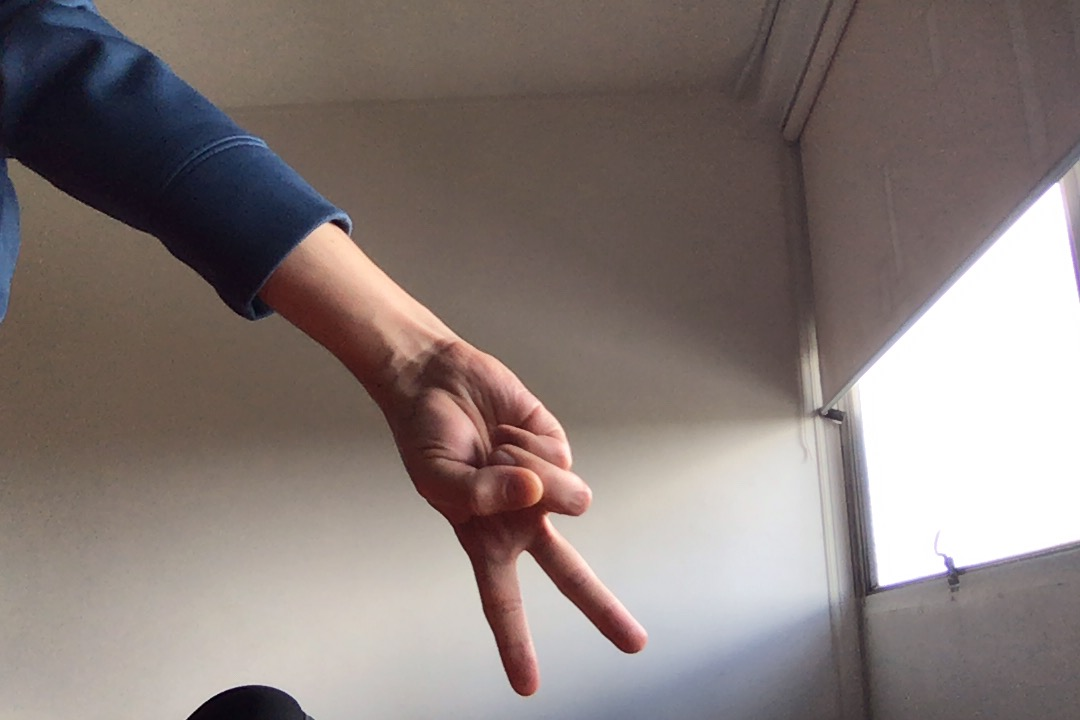peacesign: (392, 335, 653, 701)
